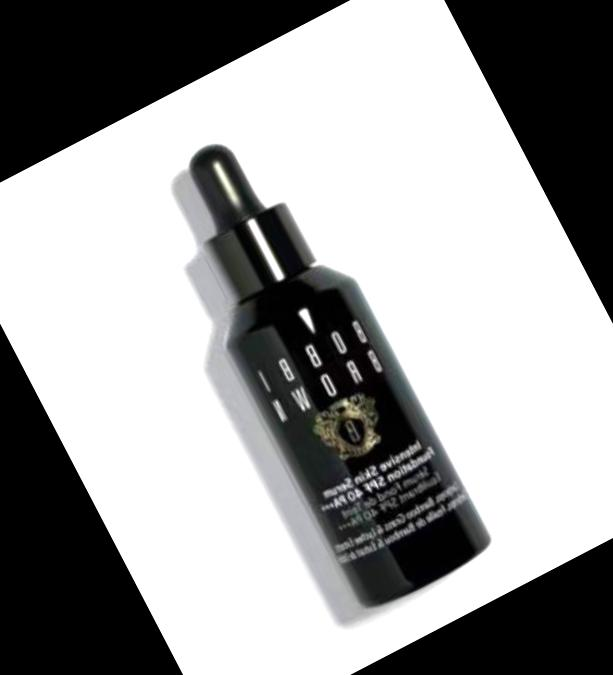cosmetic: (141, 110, 495, 606)
